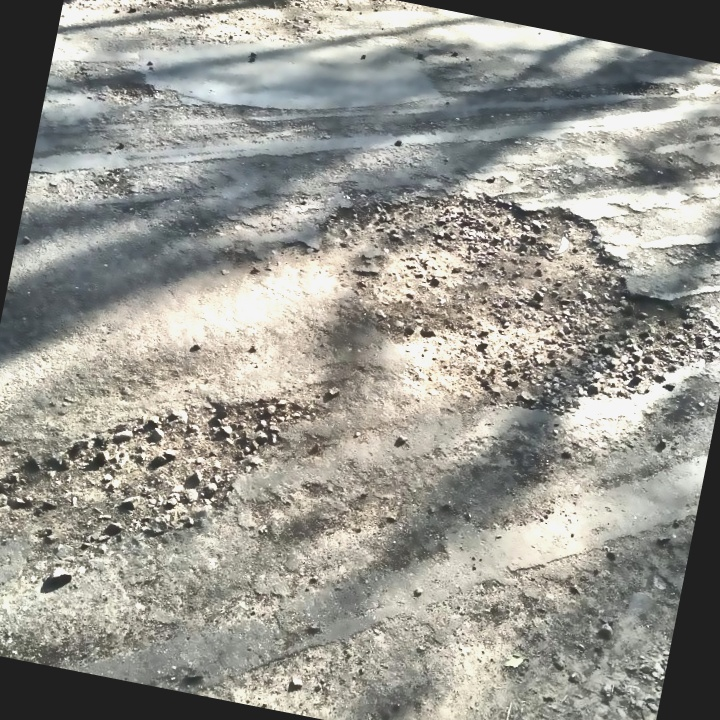pothole: (270, 152, 720, 451), (0, 341, 316, 595)
